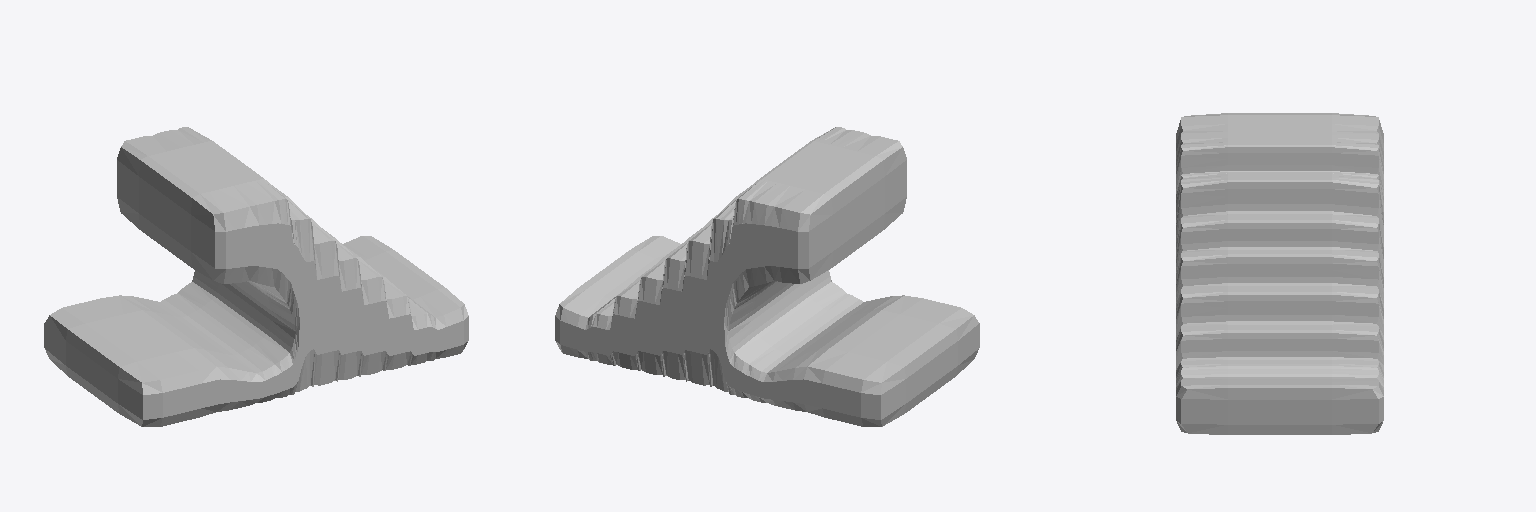
The model's file is ground-castle-1.obj.
3 views of the same model, side by side, from view 1: azimuth 30°, elevation 25°; view 2: azimuth 150°, elevation 25°; view 3: azimuth 270°, elevation 25° (orthographic).
Visible parts, largest first — view 1: 02.Ground.039_Cube.4024; view 2: 02.Ground.039_Cube.4024; view 3: 02.Ground.039_Cube.4024.
Part boxes in pixels (x1,y1,x2,y2): 02.Ground.039_Cube.4024: (44,127,468,426); 02.Ground.039_Cube.4024: (555,127,979,426); 02.Ground.039_Cube.4024: (1176,113,1383,434).
Size of the model in its own units: 13.16 by 7.72 by 7.2.